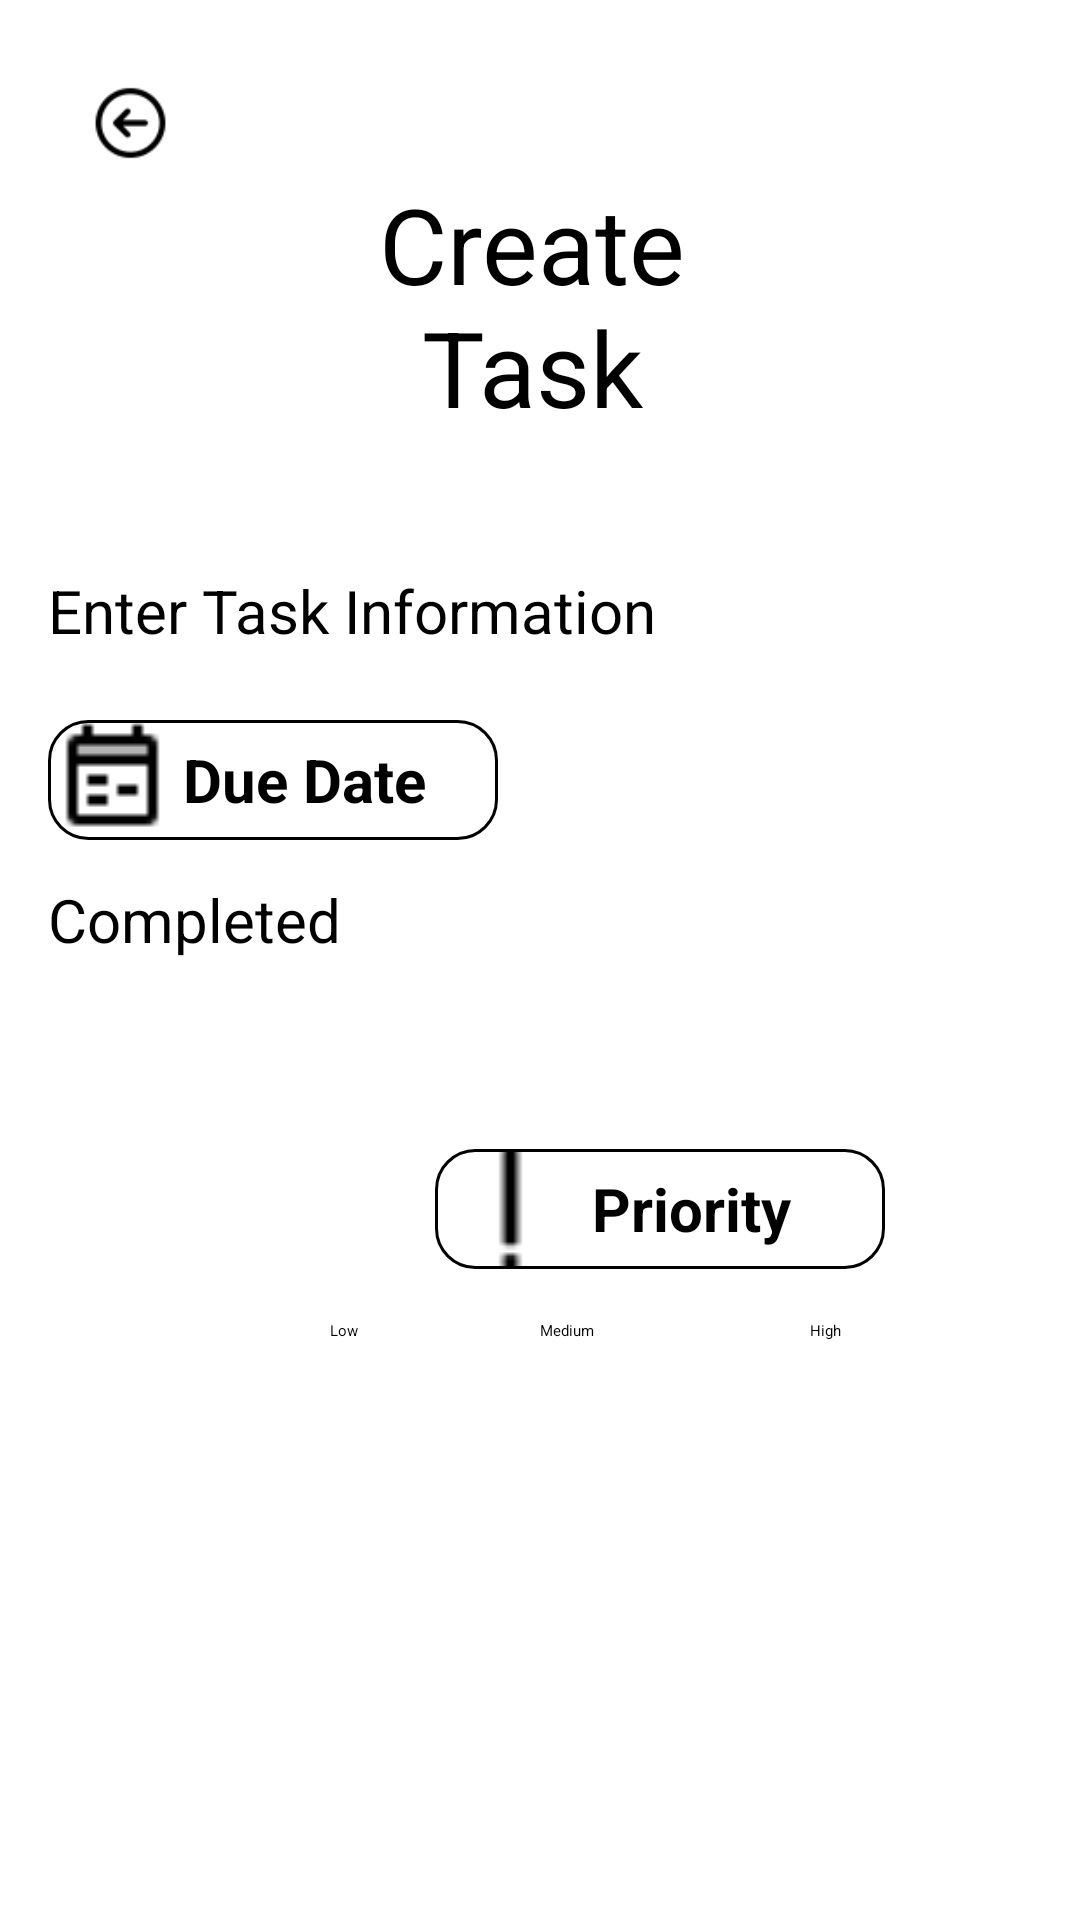

Where icons sit on this 1080 x 1920 app screen, as (left=x1, top=y1, right=x2, bottom=y2):
Back: (left=95, top=88, right=166, bottom=158)
date picker: (left=48, top=720, right=177, bottom=840)
exclamation: (left=435, top=1149, right=586, bottom=1269)
